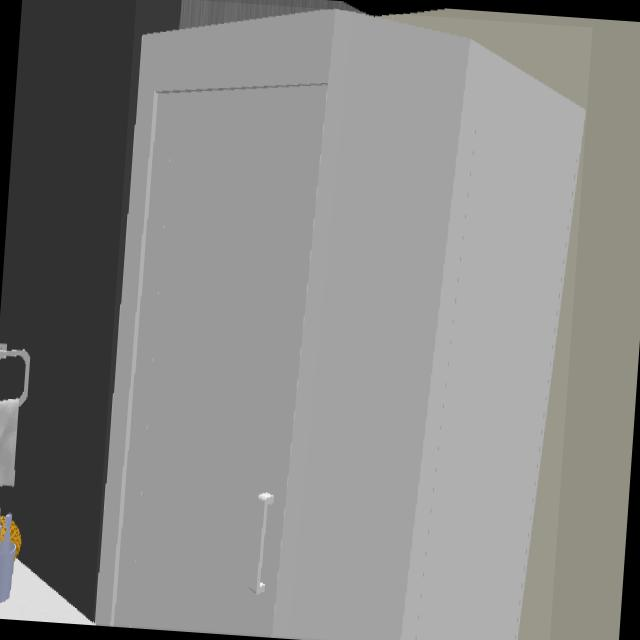shower: (94, 9, 586, 640)
